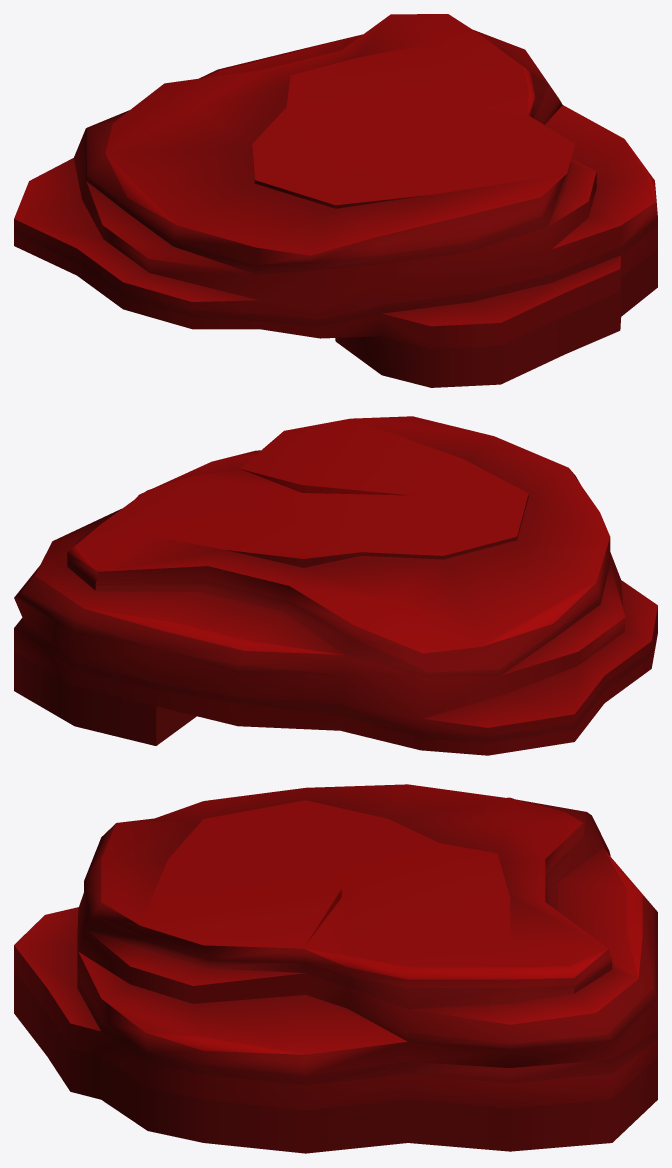
Rendered from geology-rocks-rockflatlayered_v1.fbx.
3 renders of one model, top to bottom at view 1: azimuth 30°, elevation 25°; view 2: azimuth 150°, elevation 25°; view 3: azimuth 270°, elevation 25°, orthographic. The views are drawn at different scales.
Parts seen in each view (by area): view 1: RockFlatLayered_v1; view 2: RockFlatLayered_v1; view 3: RockFlatLayered_v1.
Part boxes in pixels (bbox=[...]): RockFlatLayered_v1: bbox=[14, 14, 657, 387]; RockFlatLayered_v1: bbox=[14, 416, 657, 755]; RockFlatLayered_v1: bbox=[14, 784, 657, 1153].
Bounding box in the file's own units: 8.26 × 2.29 × 7.96.
